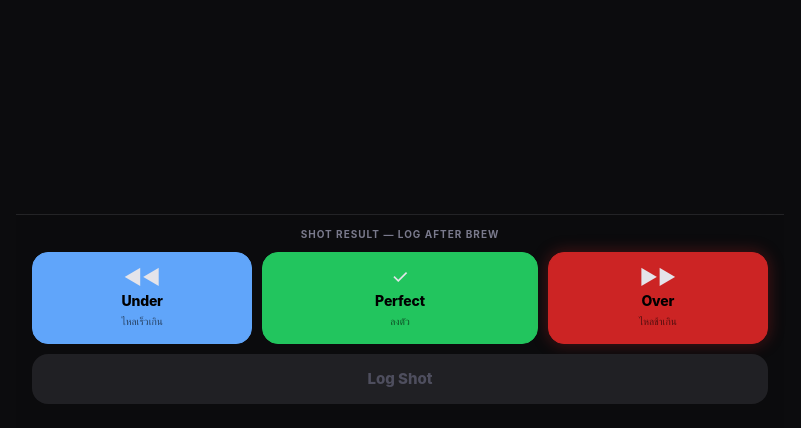
Test: ShotFeedback — auto-calibration integration › shows CalibrationSuggestionCard after 2 consecutive over shots
Click the text "Over" at coordinates (658, 300), box [642,290,674,310]
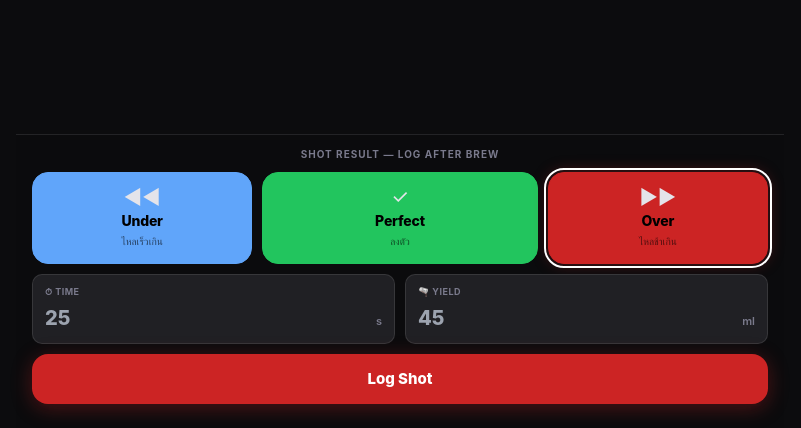
Click the button "Log Shot" at coordinates (400, 379), box [32,354,768,404]
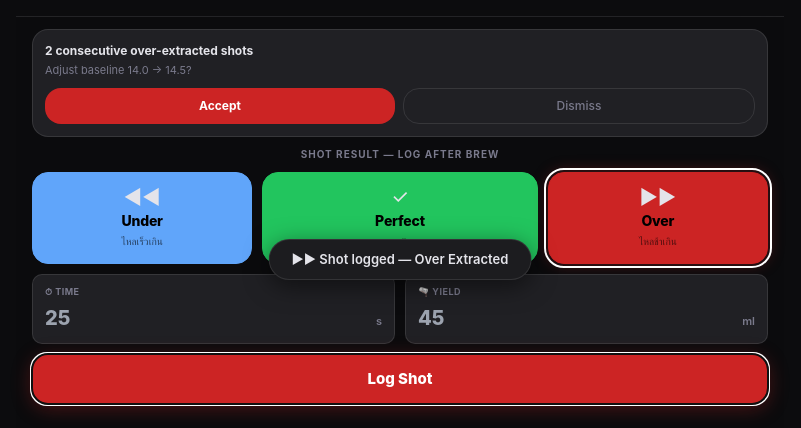
expect the text "2 consecutive over-extracted shots" is shown: met, box [45,42,253,58]
expect the text "Adjust baseline 14.0 → 14.5?" is shown: met, box [45,62,192,76]
